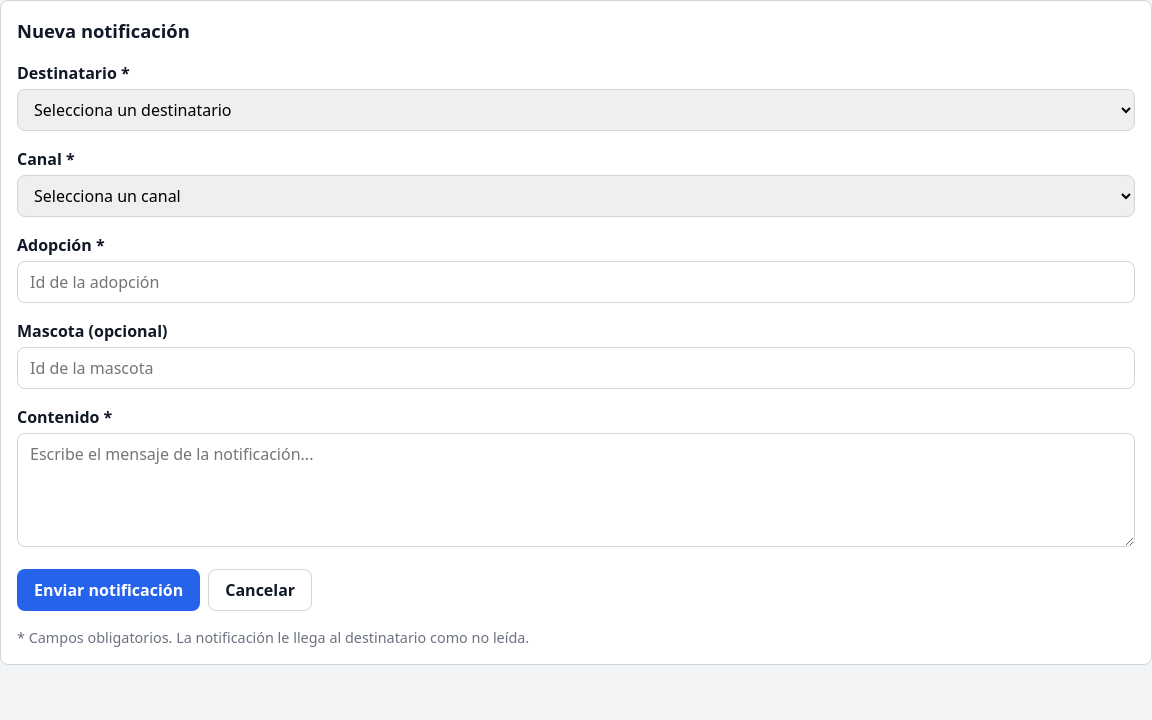
Test: NotificationForm › clears the form when cancelling
The image size is (1152, 720).
Type "Texto" into the text box labelled "Contenido *" at (576, 490), box [17,433,1135,547]
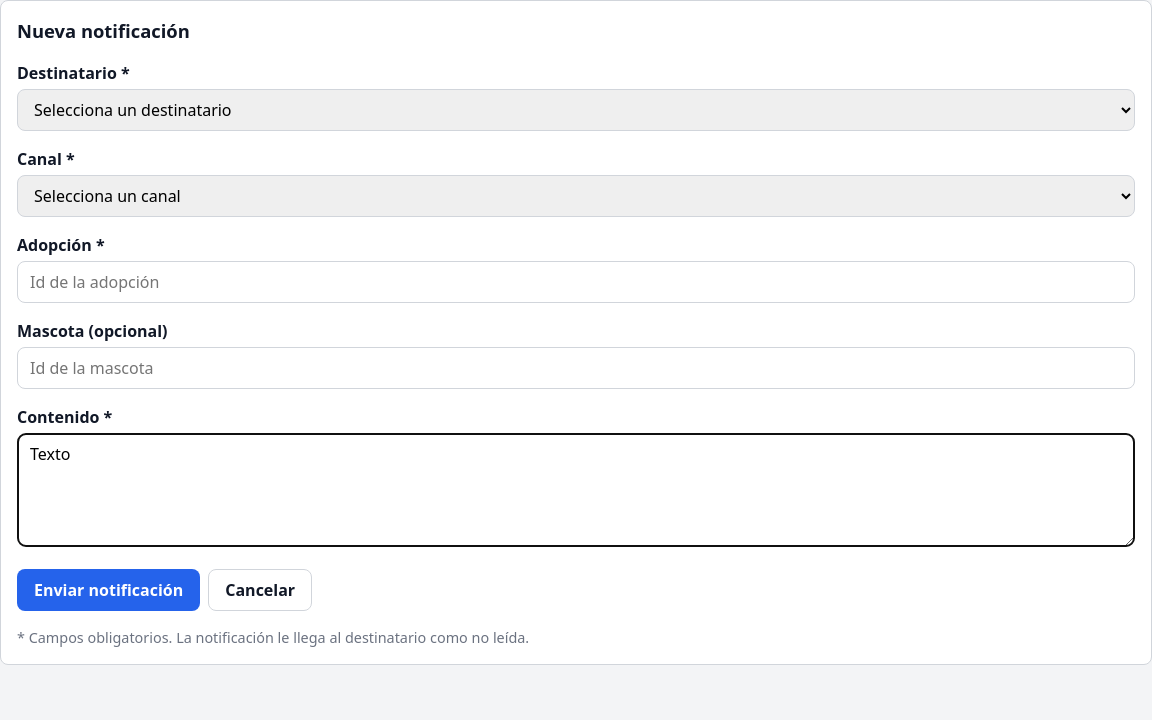
Click the button "Cancelar" at (260, 590), box [208,569,312,611]
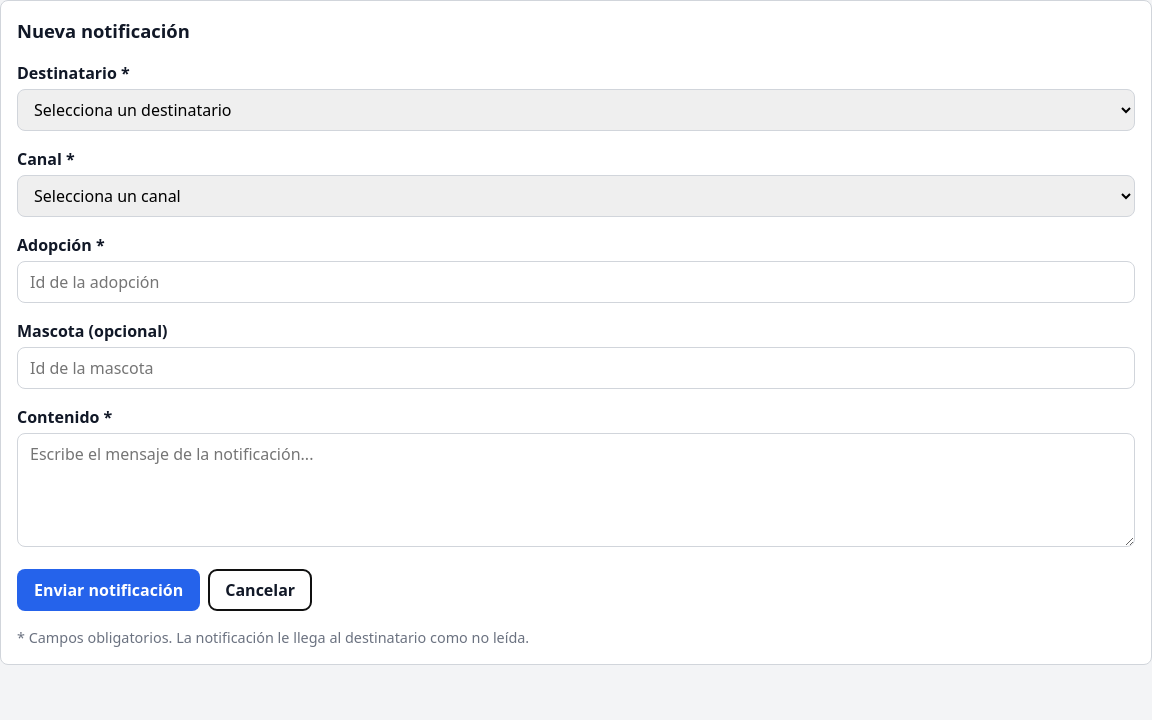
Check: the text box labelled "Contenido *" is empty, box [17,433,1135,547]
